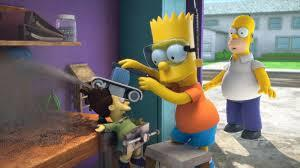Bart: (138, 11, 228, 148)
Homer: (204, 6, 273, 137)
